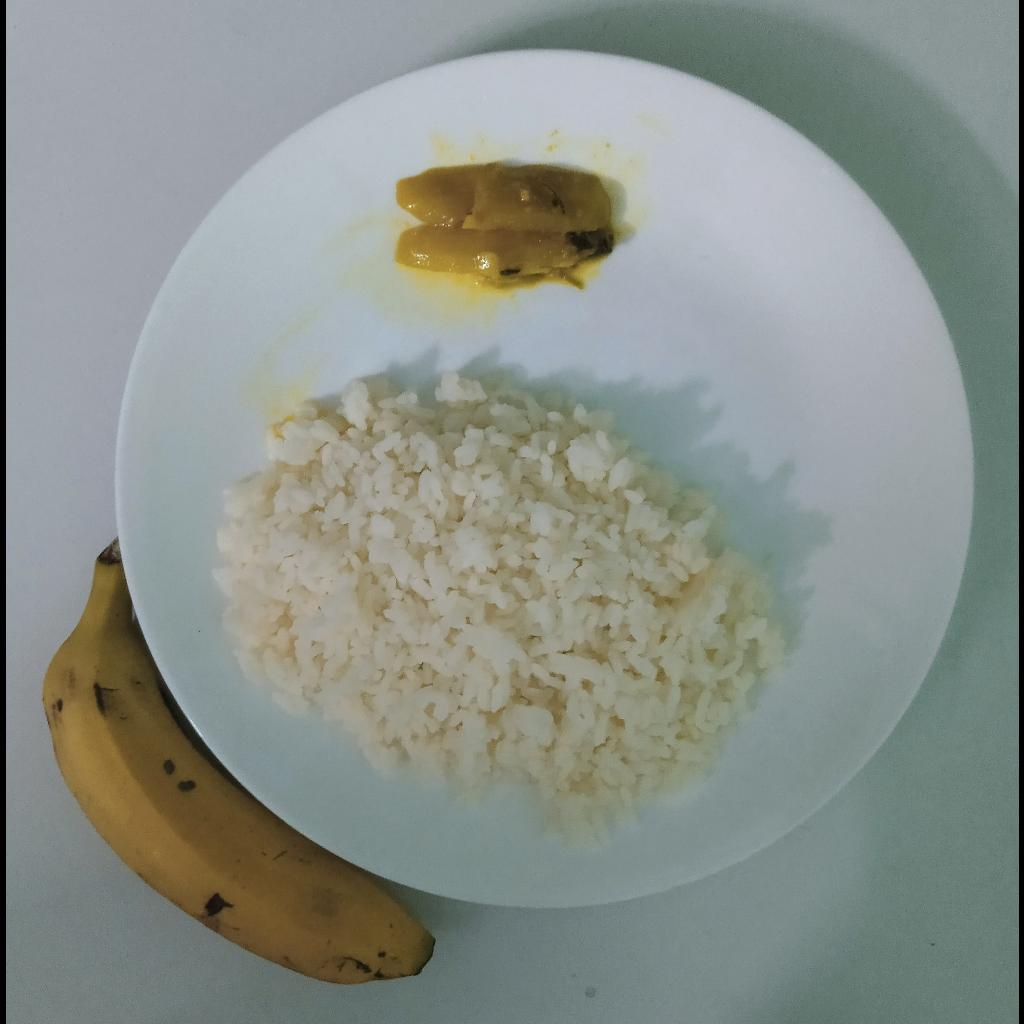banana: (39, 535, 435, 985)
potol: (393, 160, 615, 291)
rice: (212, 368, 786, 856)
